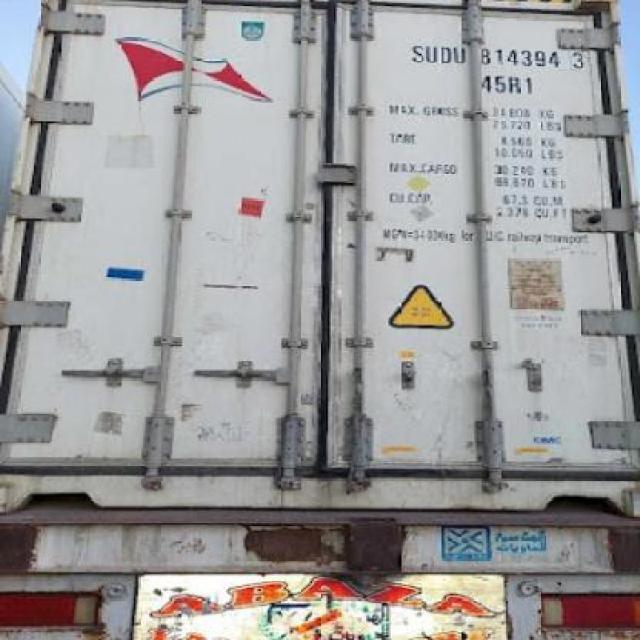ISO: (480, 74, 536, 96)
container_number: (414, 46, 586, 70)
